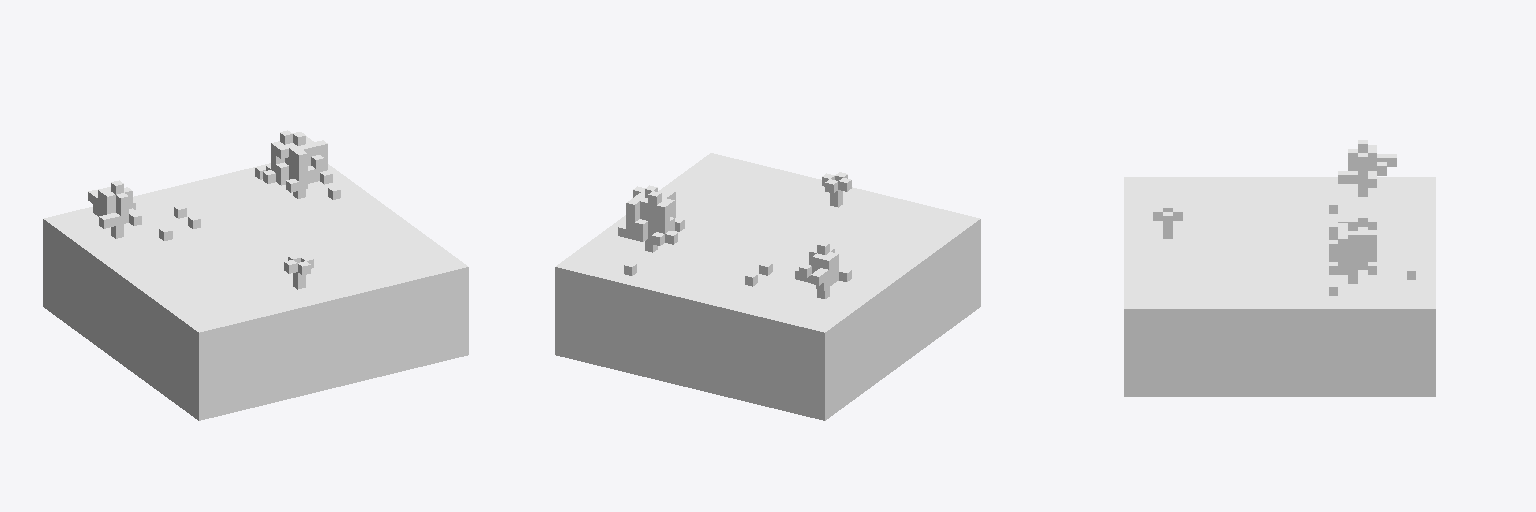
Rendered from Overworld_Beach_06.obj.
The picture shows the model from 3 angles: view 1: azimuth 30°, elevation 25°; view 2: azimuth 150°, elevation 25°; view 3: azimuth 270°, elevation 25°; orthographic projection.
Visible parts, largest first — view 1: object 1; view 2: object 1; view 3: object 1.
Boxes of the visible parts, <box> form: object 1: <box>43,130,468,420</box>; object 1: <box>555,153,980,420</box>; object 1: <box>1124,140,1435,396</box>.
Size of the model in its own units: 3.2 by 1.7 by 3.2.